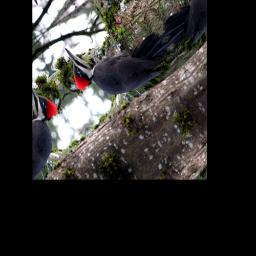Woodpecker: (55, 0, 178, 129)
